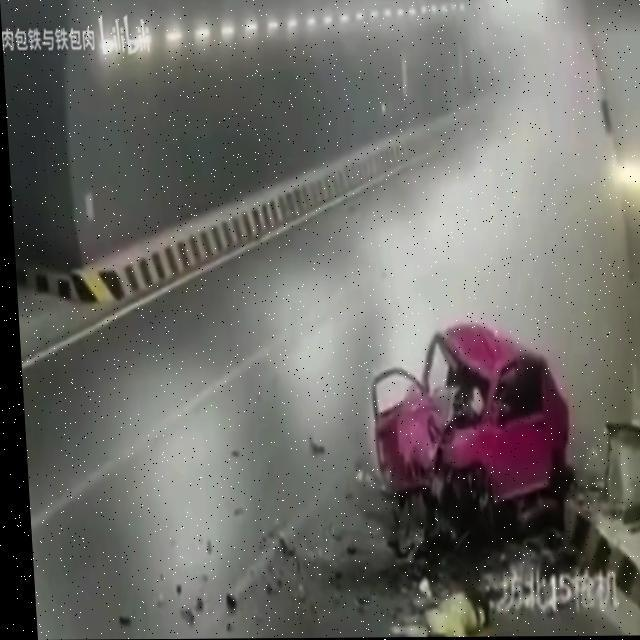single accident: (319, 279, 600, 574)
